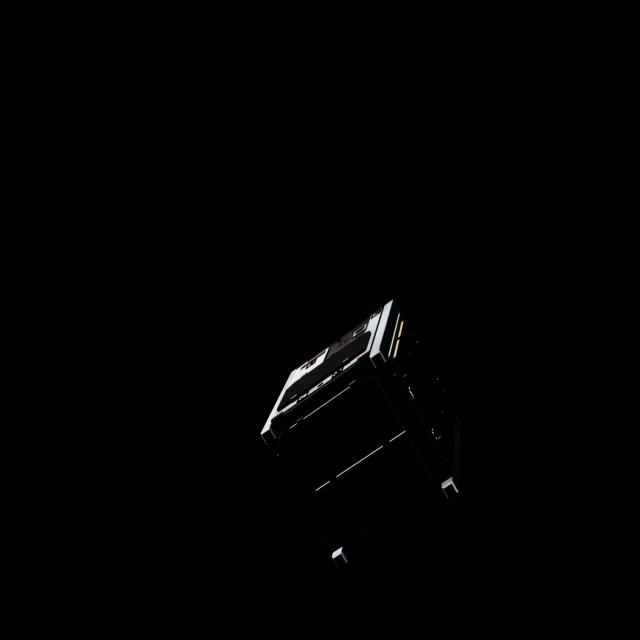satellite: (251, 302, 494, 580)
